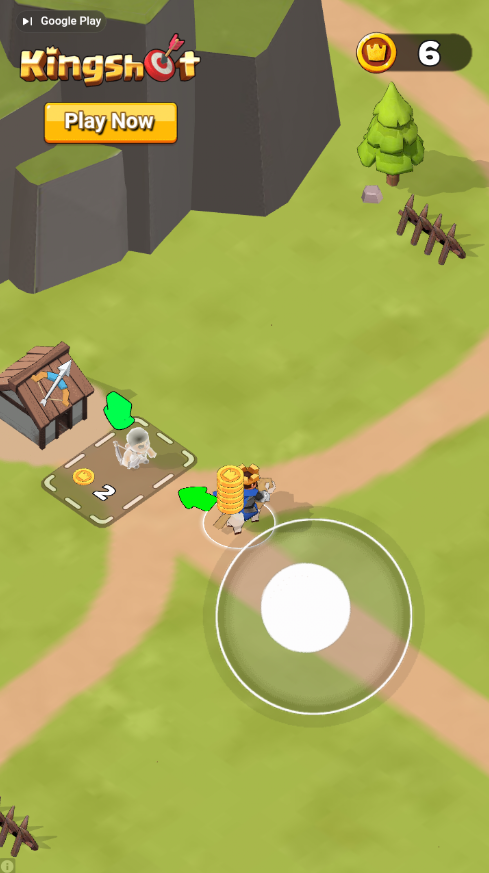close_button: (18, 10, 105, 32)
